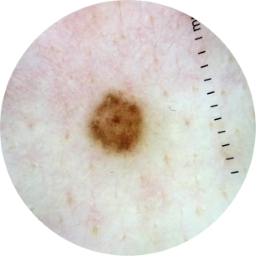melanoma: (91, 92, 143, 154)
